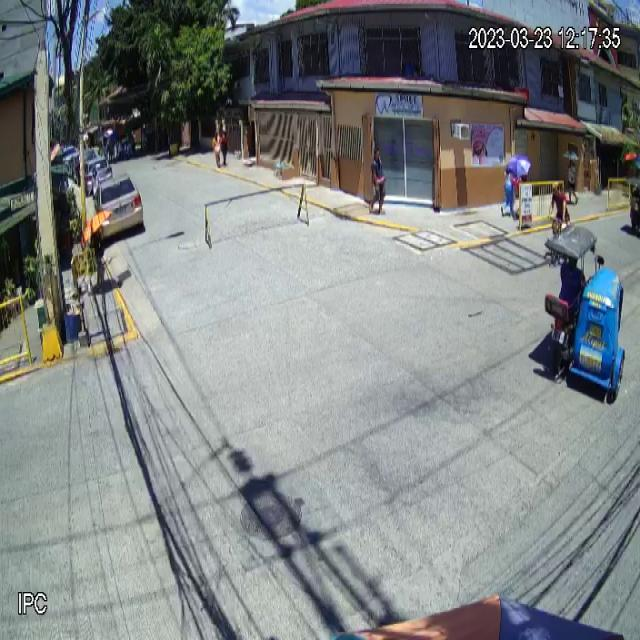Tricycle: (544, 222, 626, 402)
